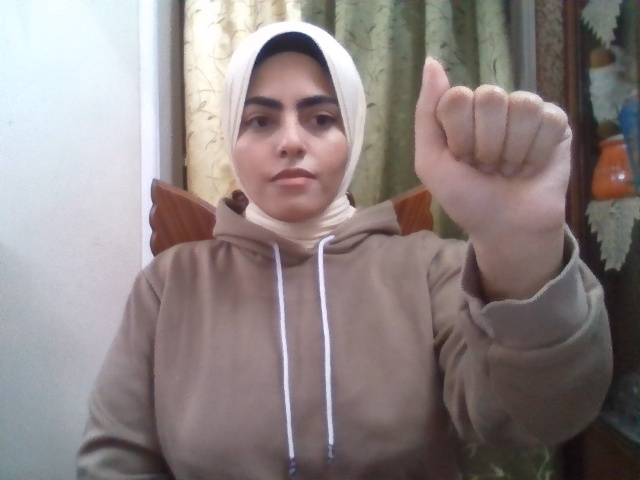A: (415, 58, 573, 227)
